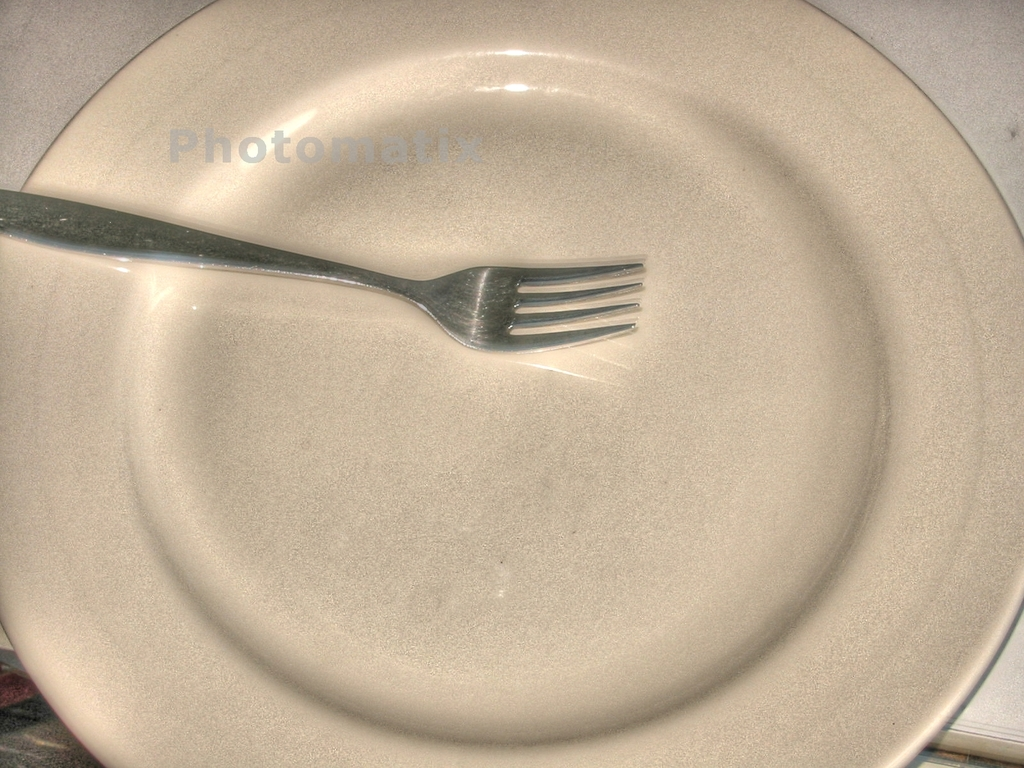fork: (0, 188, 643, 354)
